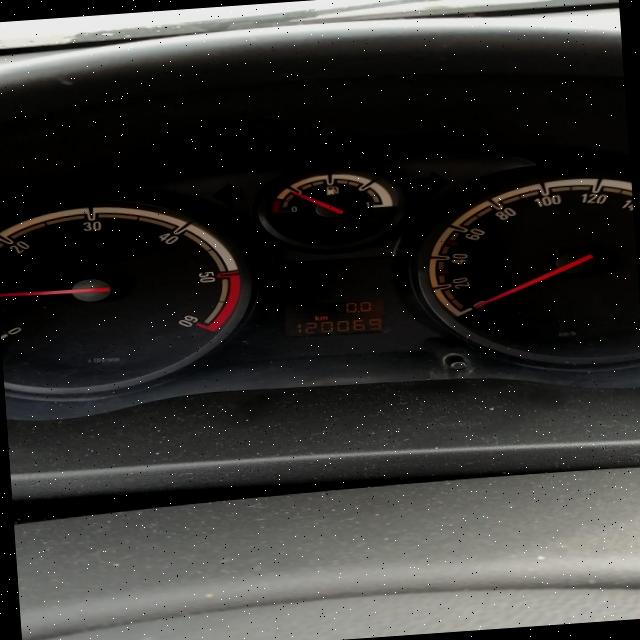odometer: (279, 295, 389, 340)
